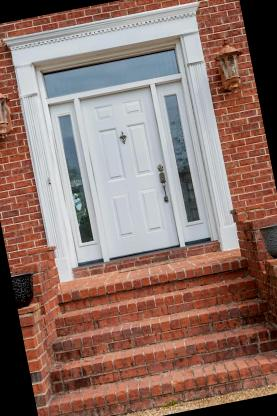door: (0, 0, 248, 285)
stair: (34, 246, 277, 416)
